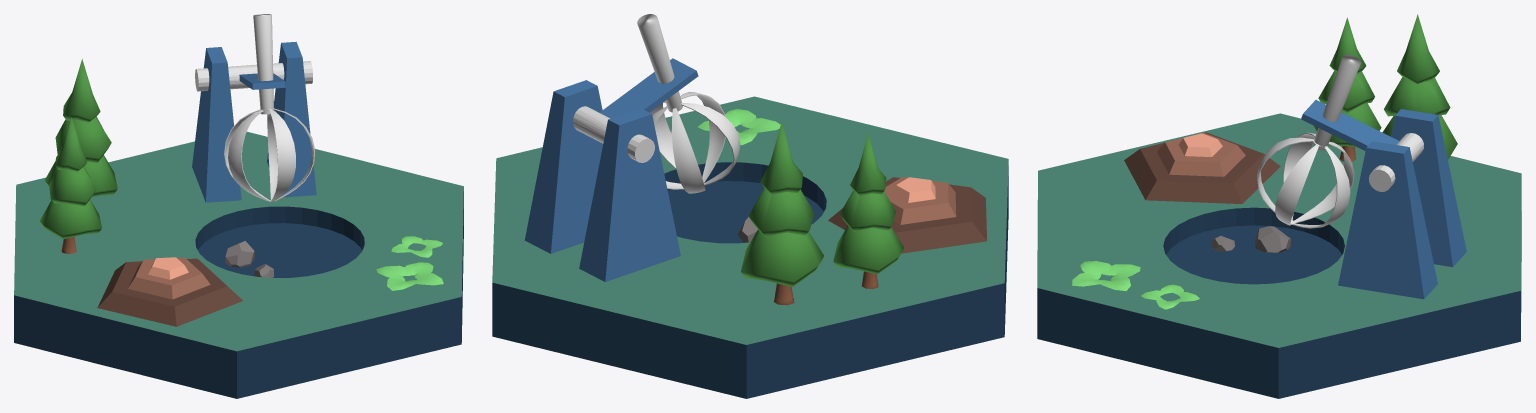
Rendered from Macro - Mineral lvl 1 WM1 rev.fbx.
3 views of the same model, side by side, from view 1: azimuth 30°, elevation 25°; view 2: azimuth 150°, elevation 25°; view 3: azimuth 270°, elevation 25° (orthographic). The views are drawn at different scales.
Visible parts, largest first — view 1: Cylinder.011, Cube.002, Cylinder.006, Tree_Spruce_tiny_01.001, Circle.001, Tree_Spruce_tiny_01.002, Cube.001, Cylinder.005, Cylinder.003, Plane.011, Cylinder.002, Cylinder.004 (+3 smaller); view 2: Cylinder.011, Cube.002, Cube.001, Tree_Spruce_tiny_01.002, Tree_Spruce_tiny_01.001, Circle.001, Cylinder.006, Cube.003, Cylinder.005, Cylinder.003, Cylinder.002, Plane.011 (+1 smaller); view 3: Cylinder.011, Cube.001, Cube.002, Cylinder.006, Circle.001, Tree_Spruce_tiny_01.002, Tree_Spruce_tiny_01.001, Cylinder.005, Cube.003, Cylinder.003, Plane.011, Cylinder.002 (+3 smaller).
Boxes of the visible parts, x1,y1,x2,y2 form: Cylinder.011: [14, 131, 463, 398]; Cube.002: [192, 47, 241, 202]; Cylinder.006: [97, 258, 242, 326]; Tree_Spruce_tiny_01.001: [40, 117, 101, 253]; Circle.001: [224, 108, 315, 201]; Tree_Spruce_tiny_01.002: [44, 59, 117, 196]; Cube.001: [267, 41, 316, 197]; Cylinder.005: [128, 257, 210, 299]; Cylinder.003: [253, 14, 273, 114]; Plane.011: [376, 262, 443, 290]; Cylinder.002: [195, 61, 312, 91]; Cylinder.004: [148, 257, 188, 279]; Cylinder.011: [492, 96, 1008, 398]; Cube.002: [579, 108, 680, 281]; Cube.001: [524, 80, 603, 253]; Tree_Spruce_tiny_01.002: [741, 121, 823, 305]; Tree_Spruce_tiny_01.001: [833, 133, 904, 288]; Circle.001: [649, 91, 740, 193]; Cylinder.006: [828, 177, 986, 253]; Cube.003: [599, 58, 698, 118]; Cylinder.005: [884, 177, 956, 224]; Cylinder.003: [637, 14, 682, 112]; Cylinder.002: [573, 106, 654, 162]; Plane.011: [697, 109, 780, 145]; Cylinder.011: [1037, 113, 1521, 398]; Cube.001: [1338, 141, 1437, 299]; Cube.002: [1391, 109, 1466, 267]; Cylinder.006: [1124, 132, 1280, 203]; Circle.001: [1257, 132, 1354, 228]; Tree_Spruce_tiny_01.002: [1382, 14, 1457, 159]; Tree_Spruce_tiny_01.001: [1314, 17, 1381, 161]; Cylinder.005: [1157, 132, 1245, 176]; Cube.003: [1301, 100, 1398, 150]; Cylinder.003: [1313, 54, 1360, 150]; Plane.011: [1072, 261, 1140, 290]; Cylinder.002: [1369, 133, 1423, 191].
Bounding box in the file's own units: 197 × 99.74 × 172.
